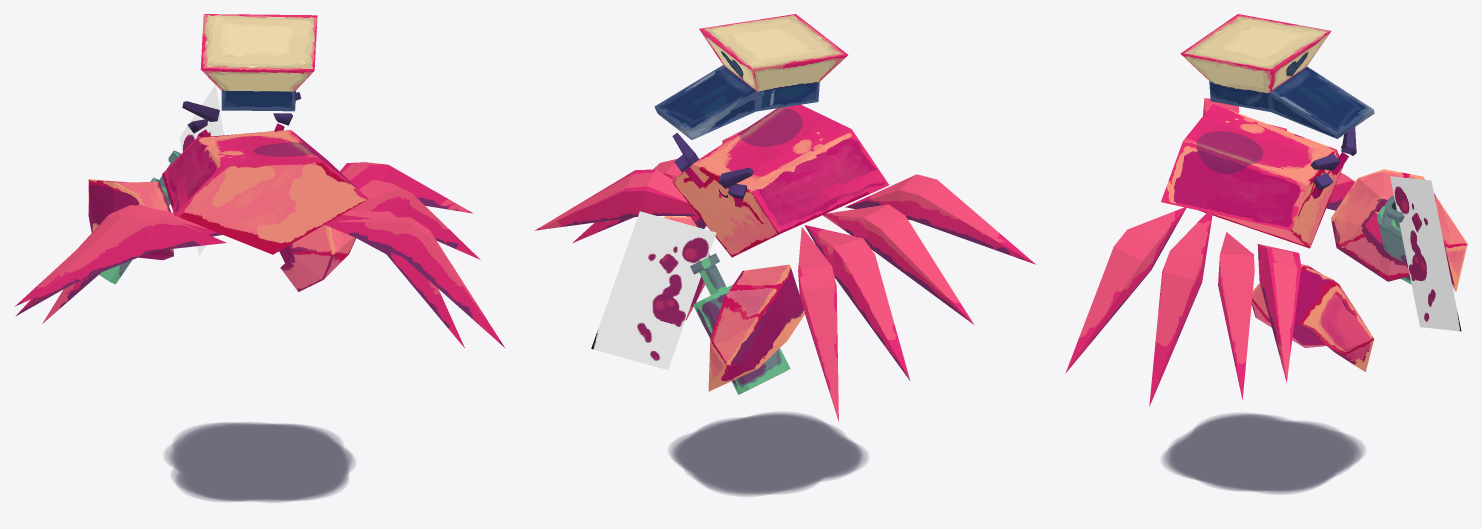
3 views of the same model, side by side, from view 1: azimuth 30°, elevation 25°; view 2: azimuth 150°, elevation 25°; view 3: azimuth 270°, elevation 25° (orthographic). The views are drawn at different scales.
Parts seen in each view (by area): view 1: Crab, Shadow; view 2: Crab, Shadow; view 3: Crab, Shadow.
Part boxes in pixels (x1=…): Crab: x1=15, y1=14, x2=505, y2=348; Shadow: x1=163, y1=422, x2=355, y2=502; Crab: x1=535, y1=14, x2=1035, y2=421; Shadow: x1=668, y1=411, x2=868, y2=496; Crab: x1=1065, y1=14, x2=1467, y2=406; Shadow: x1=1161, y1=413, x2=1365, y2=494.
Size of the model in its own units: 18.7 by 15.85 by 13.98.
2 materials, 2 textured.
